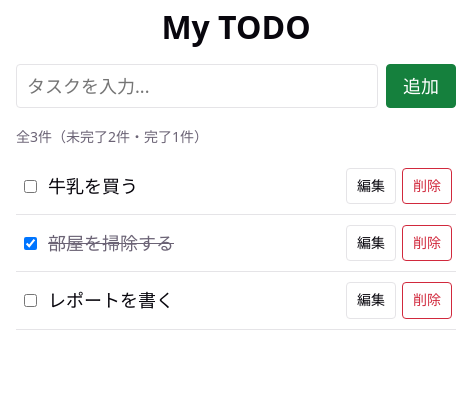
App › 編集に失敗すると対応するエラーメッセージが表示され、行は編集モードを抜けて元のタイトルのままになる
Click the button with aria-label "牛乳を買う を編集". click: x=371, y=186
box: left=346, top=168, right=396, bottom=204
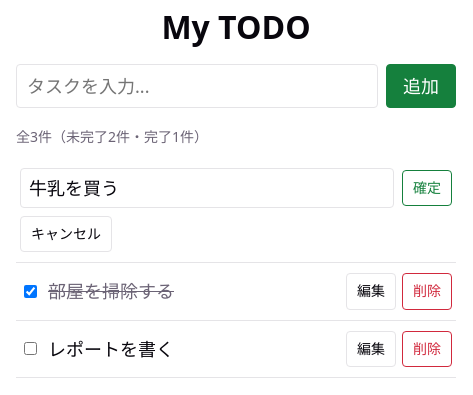
Replace the text in the field named "牛乳を買う を編集" with "パンを買う". click: x=207, y=188
box: left=20, top=168, right=394, bottom=208
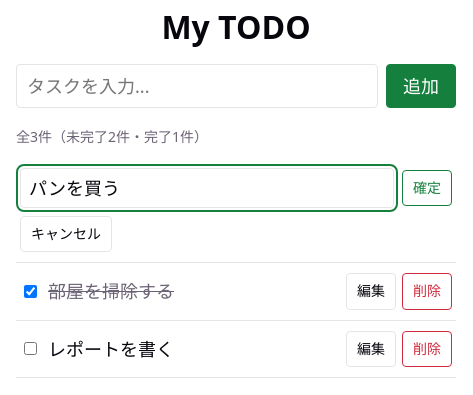
Click the button "確定". click: x=427, y=188
box: left=402, top=170, right=452, bottom=206
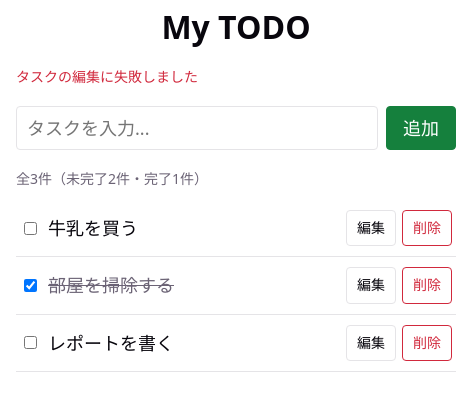
Expected: the text "パンを買う" is not shown
Now the text "タスクの編集に失敗しました" is shown, box left=16, top=67, right=198, bottom=86
Now the text "牛乳を買う" is shown, box left=48, top=216, right=138, bottom=240
